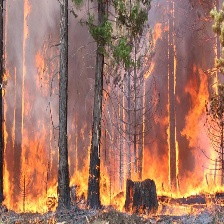fire: (4, 134, 224, 219), (183, 57, 211, 142), (19, 3, 33, 136), (35, 39, 58, 97), (144, 22, 164, 80)
